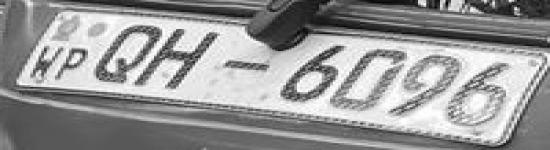-: (217, 53, 278, 76)
0: (320, 40, 423, 118)
6: (424, 55, 534, 133), (263, 38, 365, 106)
9: (379, 47, 480, 124)
H: (126, 20, 232, 94)
P: (46, 43, 95, 87)
Q: (83, 19, 174, 88)
W: (18, 42, 71, 85)
